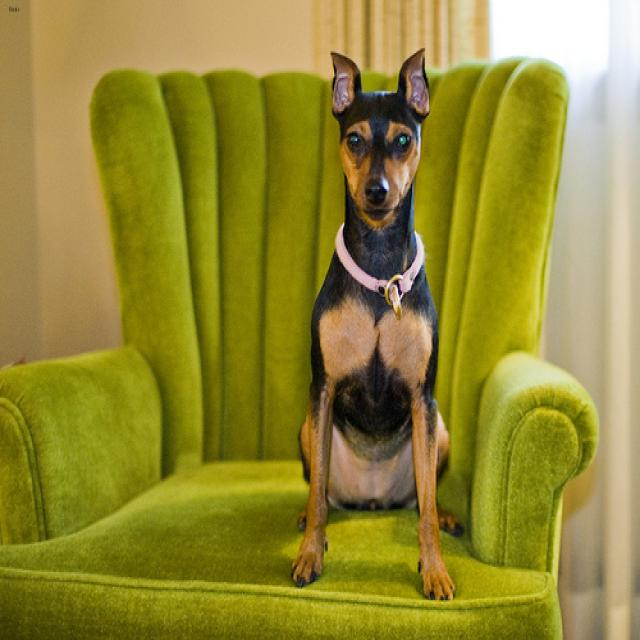dog-miniature_pinscher: (284, 40, 466, 612)
